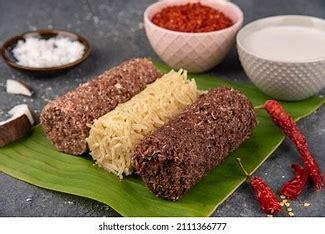Pittu: (46, 55, 259, 193)
